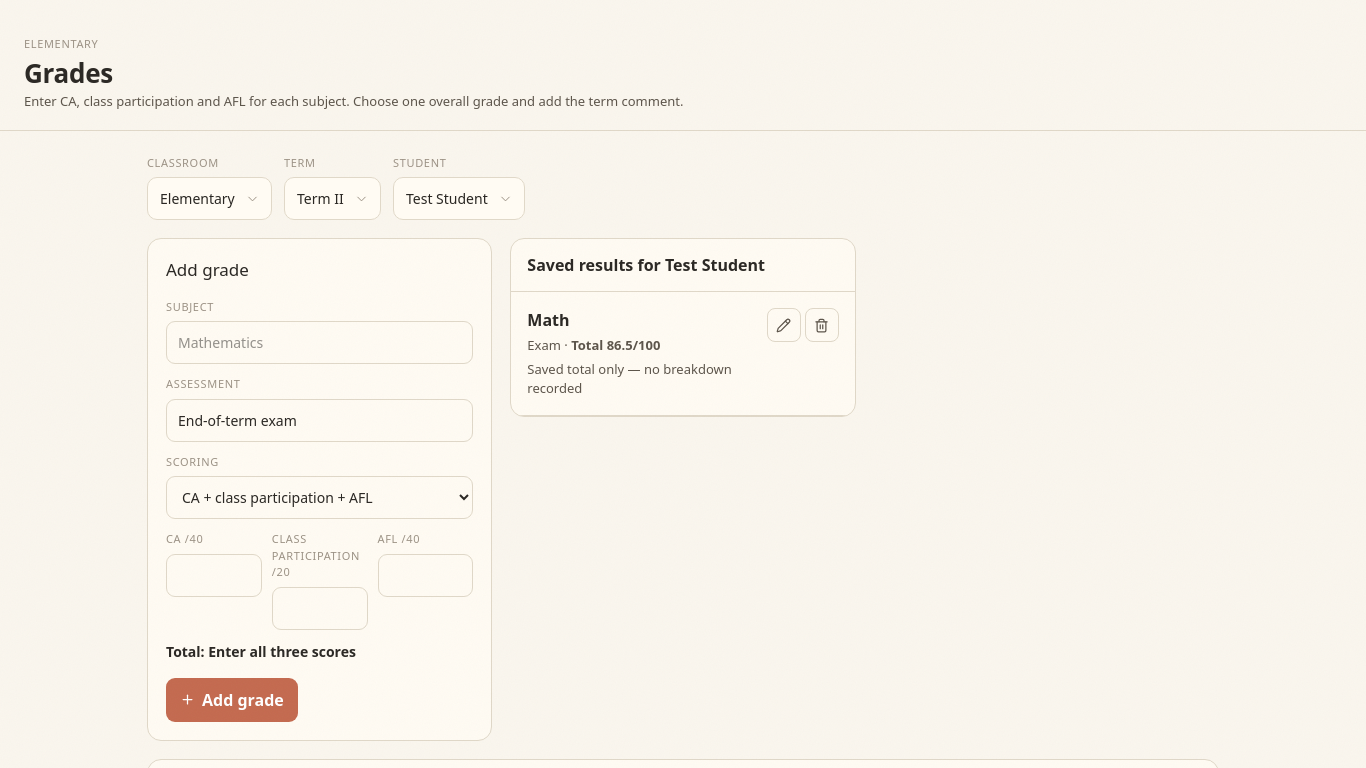
Scenario: opens a legacy result as a total without assigning invented component values
Click the button named "Edit grade" at (784, 325), box [767,308,801,342]
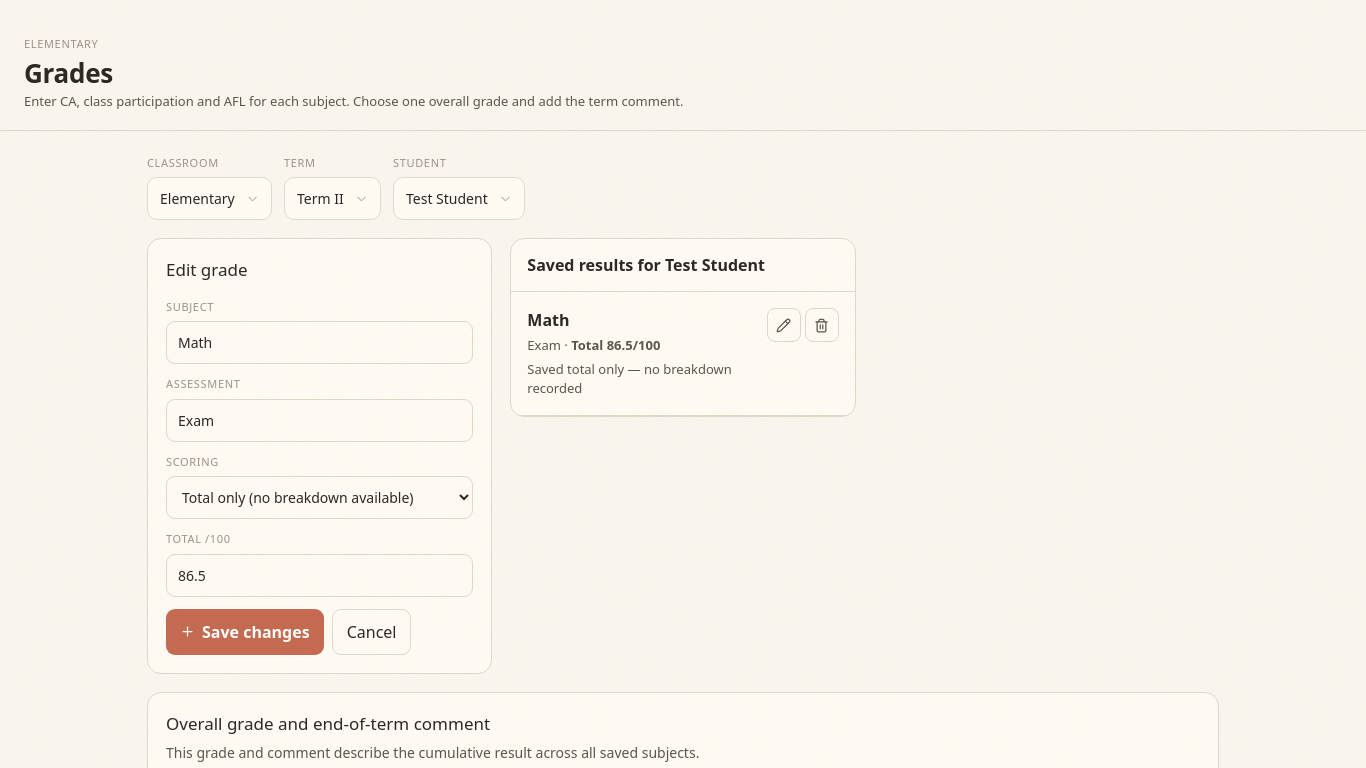
expect the dropdown labelled "Scoring" shows "Total only (no breakdown available)": met, box [166,476,473,519]
expect the number field labelled "Total /100" holds "86.5": met, box [166,554,473,597]
expect the text labelled "CA /40" is gone: met
